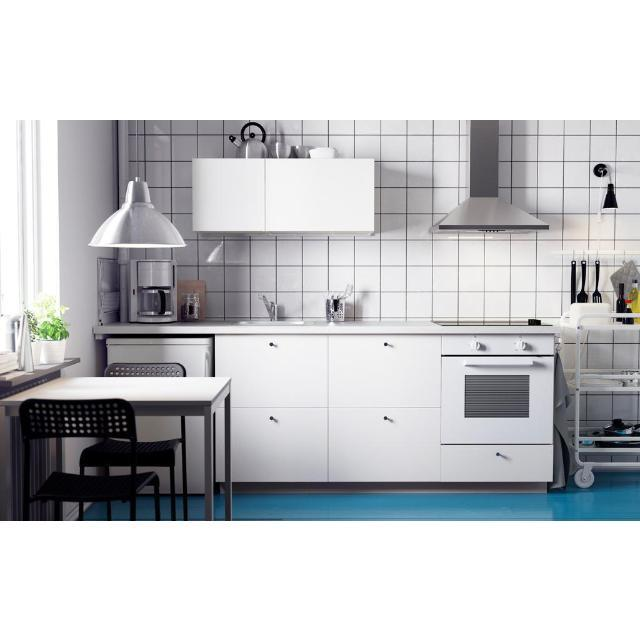chair: (19, 398, 160, 520), (81, 415, 188, 520), (105, 363, 186, 379)
lamp: (594, 163, 618, 207)
light: (90, 119, 185, 247)
plant: (34, 293, 69, 363)
table: (0, 376, 231, 520)
